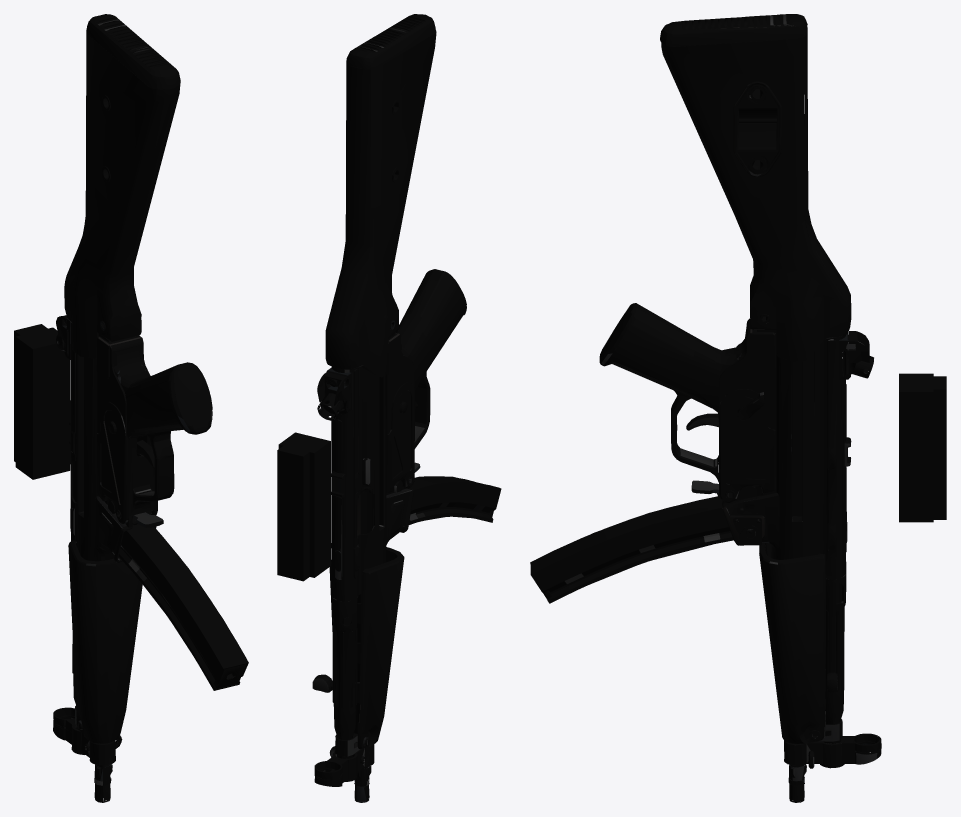
The model's file is MP5A3__Mount_HK_Claw.fbx.
The picture shows the model from 3 angles, left to right: view 1: azimuth 30°, elevation 25°; view 2: azimuth 150°, elevation 25°; view 3: azimuth 270°, elevation 25°; orthographic projection. The views are drawn at different scales.
Visible parts, largest first — view 1: asset_MP5A3.001; view 2: asset_MP5A3.001; view 3: asset_MP5A3.001.
Part boxes in pixels (<box>): asset_MP5A3.001: <box>14,14,248,802</box>; asset_MP5A3.001: <box>277,14,501,802</box>; asset_MP5A3.001: <box>530,14,946,802</box>.
Size of the model in its own units: 0.0324 by 0.36 by 0.1734.
